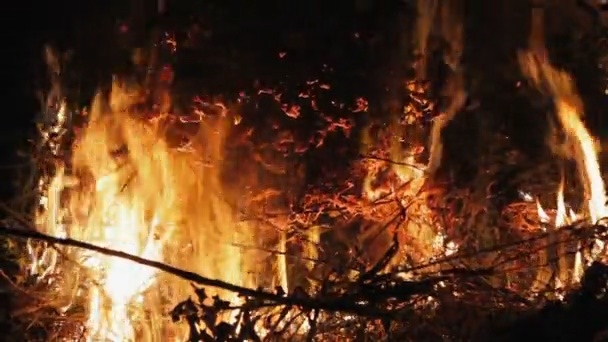fire: (26, 83, 259, 342), (544, 57, 608, 219), (367, 147, 458, 256), (253, 308, 310, 338), (276, 241, 287, 290), (588, 239, 608, 265), (555, 188, 565, 225), (573, 252, 583, 283), (536, 198, 548, 222)
